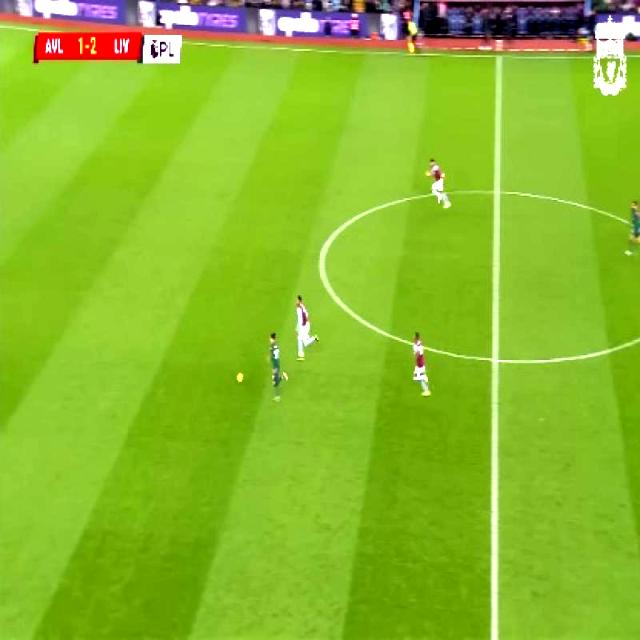halfcircle_bottom: (480, 342, 508, 376)
halfcircle_top: (483, 174, 509, 209)
midline_top_intersection: (488, 43, 509, 69)
